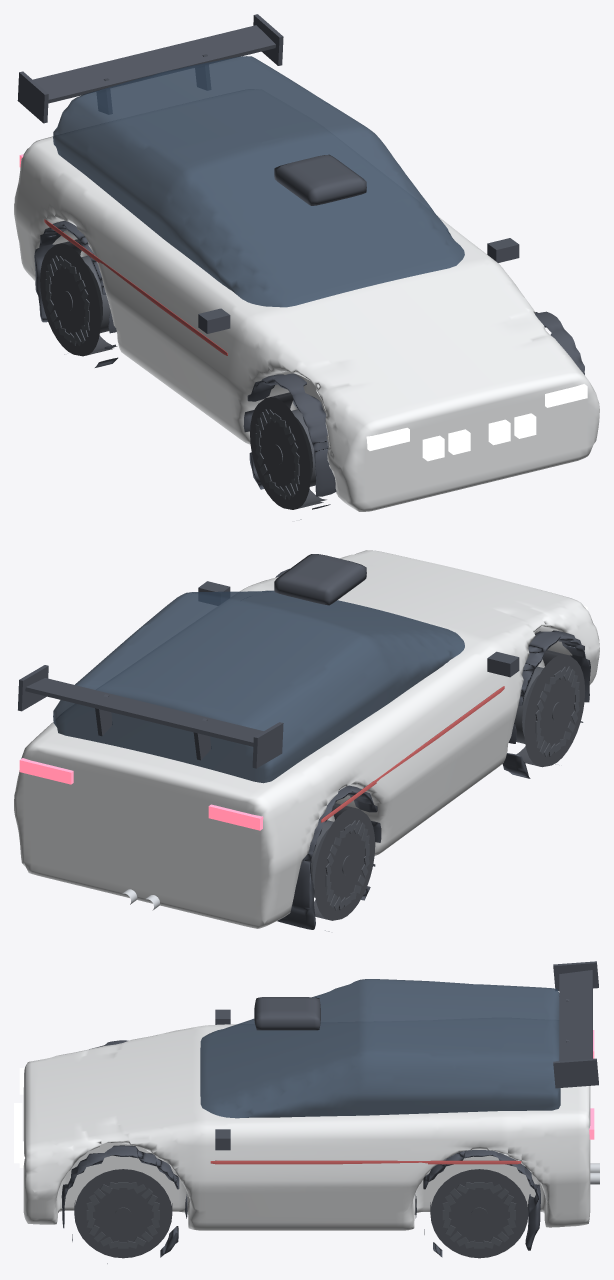
Rendered from terracorsa.glb.
3 views of the same model, one above another, from view 1: azimuth 30°, elevation 25°; view 2: azimuth 150°, elevation 25°; view 3: azimuth 270°, elevation 25° (orthographic). The views are drawn at different scales.
Parts seen in each view (by area): view 1: Bodywork, CanopyGlass, CarbonAero (×3), TireRubber, ForgedRim, HeadlightLED, AccentLivery; view 2: Bodywork, CanopyGlass, CarbonAero (×3), TireRubber, ForgedRim, TaillightLED, AccentLivery; view 3: Bodywork, CanopyGlass, TireRubber, CarbonAero (×3), ForgedRim, AccentLivery, HeadlightLED.
Boxes of the visible parts, x1=… form: Bodywork: x1=14, y1=136, x2=599, y2=511; CanopyGlass: x1=53, y1=56, x2=464, y2=307; CarbonAero (×3): x1=17, y1=14, x2=584, y2=519; TireRubber: x1=40, y1=239, x2=326, y2=509; ForgedRim: x1=45, y1=255, x2=328, y2=499; HeadlightLED: x1=366, y1=384, x2=587, y2=461; AccentLivery: x1=44, y1=219, x2=227, y2=355; Bodywork: x1=14, y1=550, x2=599, y2=928; CanopyGlass: x1=53, y1=590, x2=464, y2=783; CarbonAero (×3): x1=18, y1=554, x2=590, y2=931; TireRubber: x1=314, y1=650, x2=585, y2=920; ForgedRim: x1=311, y1=666, x2=579, y2=910; TaillightLED: x1=19, y1=758, x2=263, y2=830; AccentLivery: x1=321, y1=686, x2=504, y2=822; Bodywork: x1=23, y1=1024, x2=590, y2=1230; CanopyGlass: x1=200, y1=979, x2=560, y2=1118; TireRubber: x1=74, y1=1169, x2=528, y2=1258; CarbonAero (×3): x1=61, y1=961, x2=598, y2=1263; ForgedRim: x1=86, y1=1182, x2=516, y2=1248; AccentLivery: x1=210, y1=1160, x2=521, y2=1164; HeadlightLED: x1=14, y1=1068, x2=24, y2=1167.
Size of the model in its own units: 2.18 by 1.61 by 4.18.
